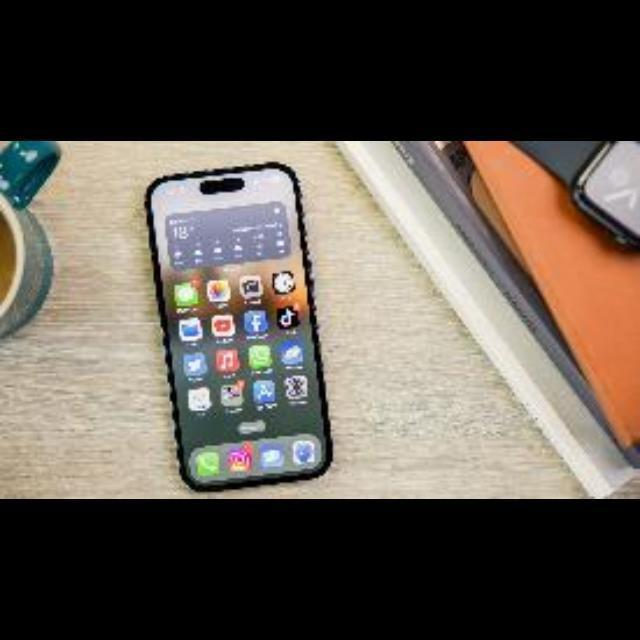phone: (146, 156, 332, 488)
